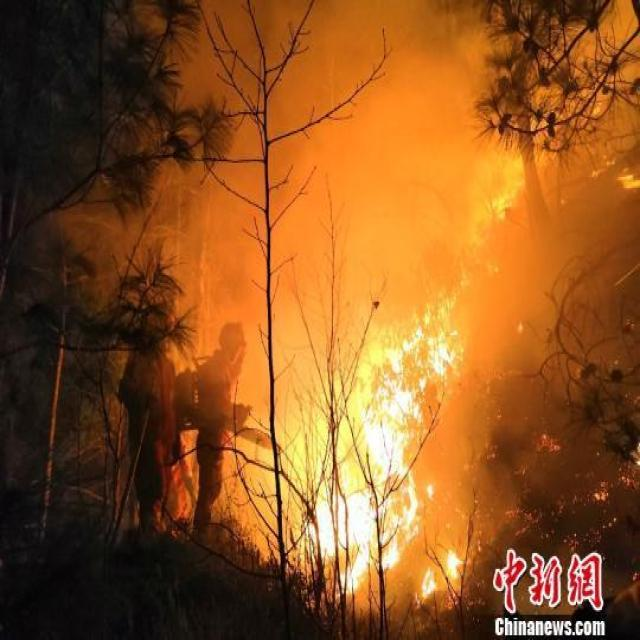Fire: (315, 288, 463, 599)
